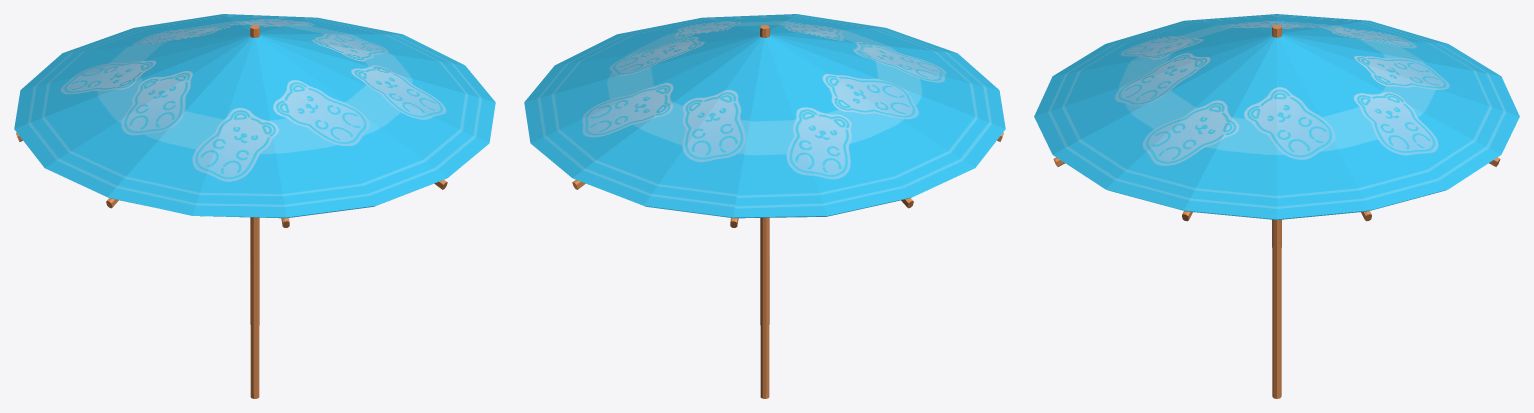
Rendered from parasol_blue.fbx.
The picture shows the model from 3 angles, left to right: view 1: azimuth 30°, elevation 25°; view 2: azimuth 150°, elevation 25°; view 3: azimuth 270°, elevation 25°; orthographic projection.
Parts seen in each view (by area): view 1: parasol_blue; view 2: parasol_blue; view 3: parasol_blue.
Boxes of the visible parts, x1,y1,x2,y2 form: parasol_blue: (14,14,495,398); parasol_blue: (524,14,1005,398); parasol_blue: (1034,14,1519,398).
Bounding box in the file's own units: 84.36 × 70.92 × 84.36.
